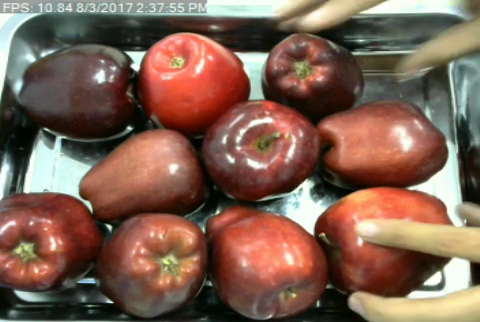Apple: (313, 182, 459, 302), (204, 205, 330, 321), (13, 40, 143, 144), (77, 125, 212, 224), (311, 96, 450, 191), (200, 97, 325, 202), (94, 209, 211, 319), (137, 30, 253, 134), (0, 190, 105, 296), (258, 30, 367, 118)
